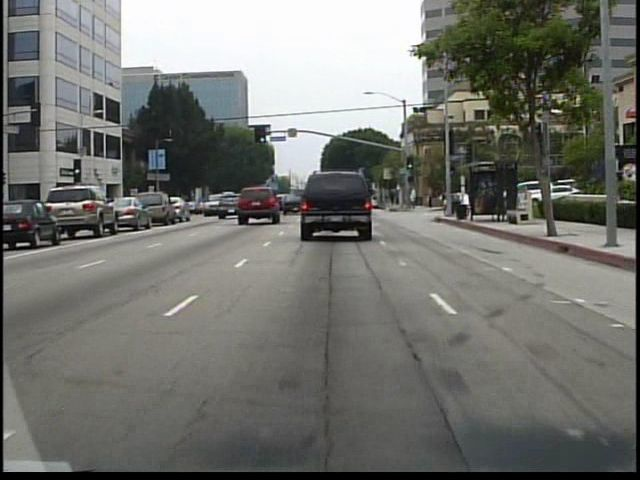person: (407, 184, 420, 213), (424, 181, 436, 211), (387, 185, 398, 209)
